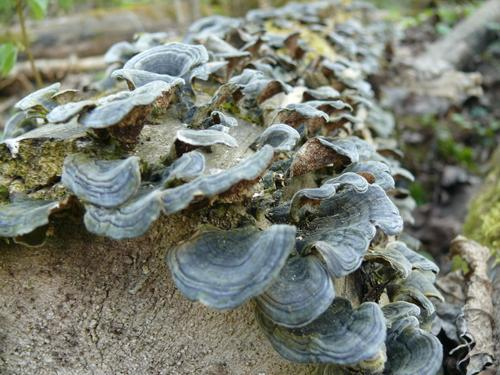poisonous_mushroom: (5, 5, 474, 367), (165, 221, 296, 309)
